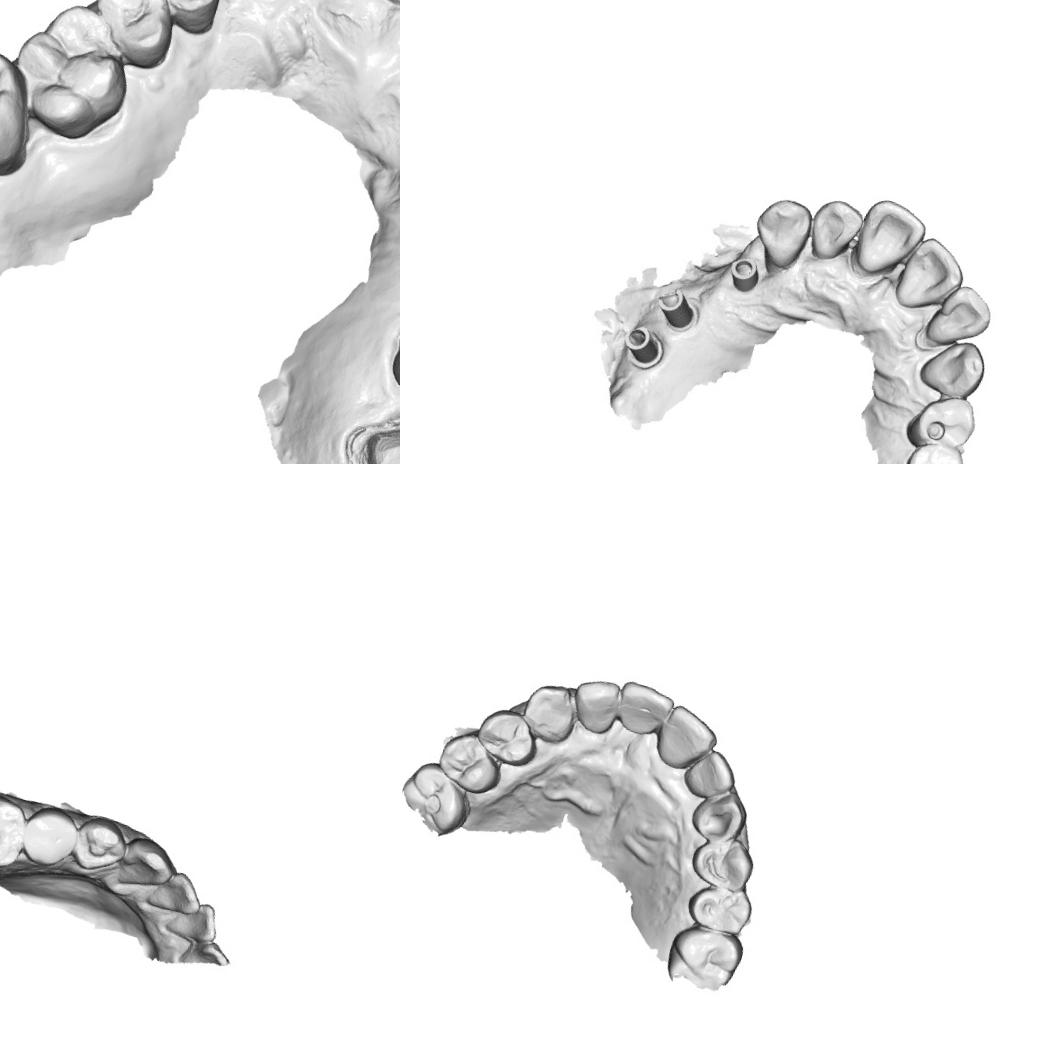canine: (914, 330, 992, 405), (745, 192, 816, 272), (110, 830, 180, 904), (514, 673, 582, 749), (682, 784, 756, 852)
crown: (347, 400, 400, 464)
implant: (614, 319, 670, 373), (648, 282, 704, 336), (723, 250, 764, 296)
incisor: (848, 192, 932, 284), (889, 230, 972, 321), (920, 276, 998, 356), (649, 699, 726, 779), (803, 193, 867, 268), (608, 676, 677, 745), (675, 741, 743, 806), (564, 672, 625, 739), (143, 862, 208, 924), (160, 892, 225, 950)
molar: (0, 0, 145, 150), (0, 32, 50, 192), (400, 754, 480, 840), (660, 918, 744, 992), (0, 785, 33, 879)
premolar: (81, 0, 189, 75), (430, 721, 512, 801), (902, 385, 982, 458), (684, 829, 762, 897), (469, 702, 543, 771), (682, 878, 758, 940), (124, 0, 239, 40), (17, 799, 81, 866), (68, 812, 130, 878), (899, 435, 970, 464)
